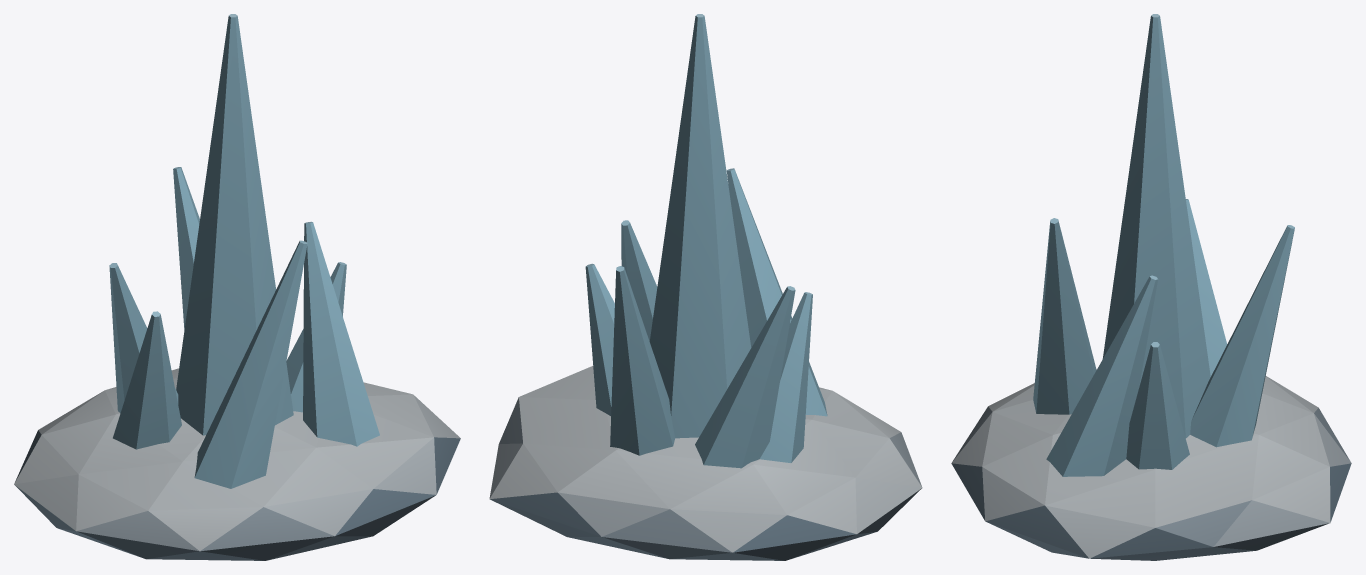
The model's file is ice_spire_c.glb.
3 renders of one model, left to right at view 1: azimuth 30°, elevation 25°; view 2: azimuth 150°, elevation 25°; view 3: azimuth 270°, elevation 25°, orthographic.
Visible parts, largest first — view 1: ice_spire_c; view 2: ice_spire_c; view 3: ice_spire_c.
Boxes of the visible parts, x1,y1,x2,y2 form: ice_spire_c: (14, 14, 460, 560); ice_spire_c: (489, 14, 922, 560); ice_spire_c: (951, 14, 1351, 560).
Size of the model in its own units: 1.89 by 2.22 by 1.7.
